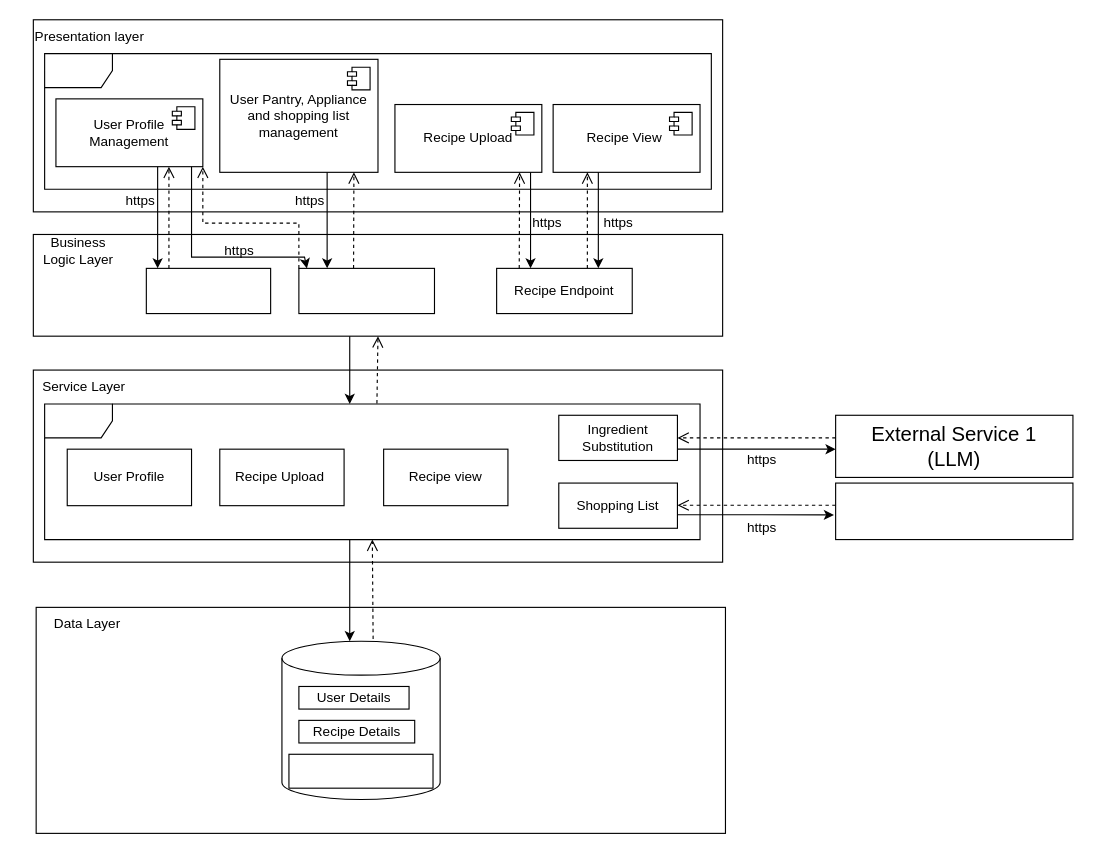
The diagram is 1093 pixels wide and 853 high, and some of its shapes have lost their labels. The box of each missing label's shape, as (x1, y1, x2, y2) in pixels:
Auth Endpoint: (145, 267, 271, 314)
Components: (44, 53, 711, 189)
External Service 2 (Checkers 60): (835, 482, 1073, 540)
Ingredient and Appliance Details: (288, 753, 433, 788)
Services: (44, 403, 700, 540)
User Endpoint: (298, 267, 434, 314)
